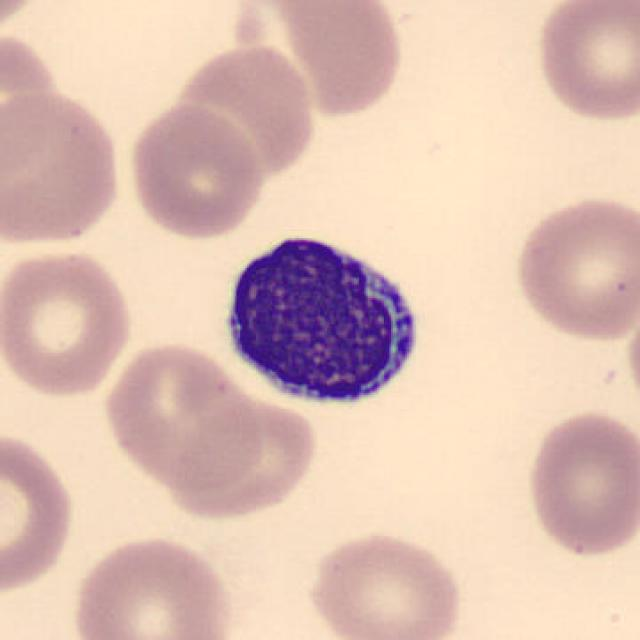Lymphocyte: (210, 220, 432, 418)
RBC: (100, 338, 268, 494), (165, 40, 322, 184), (0, 243, 137, 402), (233, 0, 409, 120), (165, 391, 322, 522), (0, 87, 126, 250), (508, 190, 638, 346), (125, 100, 266, 242), (67, 530, 236, 640), (304, 527, 468, 640), (523, 406, 638, 560), (0, 425, 80, 599), (532, 0, 638, 125), (0, 23, 64, 183)
